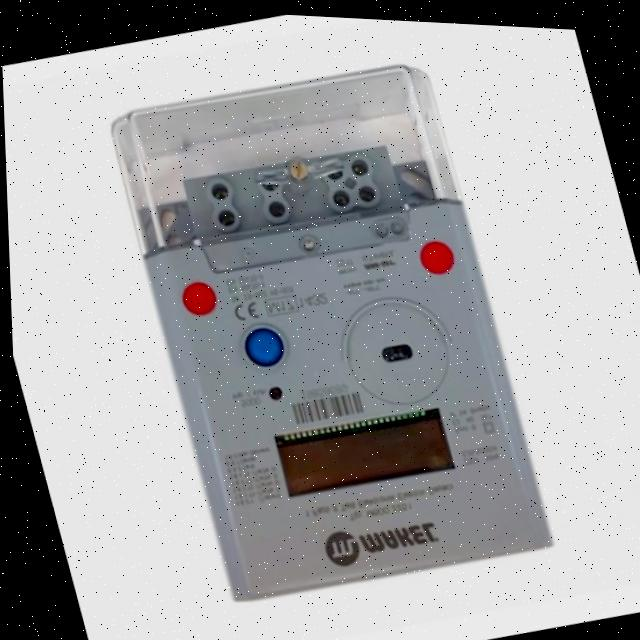electric-meter-detection: (113, 67, 551, 600)
